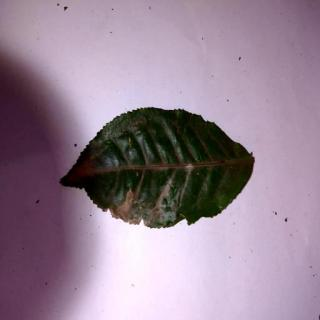Anthracnose: (60, 107, 256, 232)
